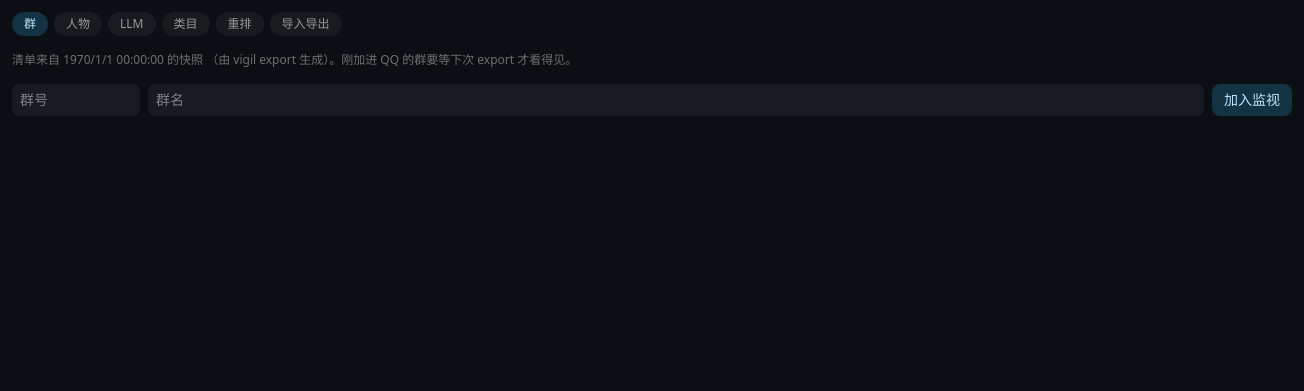
it: 删类目时未知条目数就必须要求选择迁移目标
This screenshot has width=1304, height=391.
Click the button "类目" at (186, 24), box [162,12,210,36]
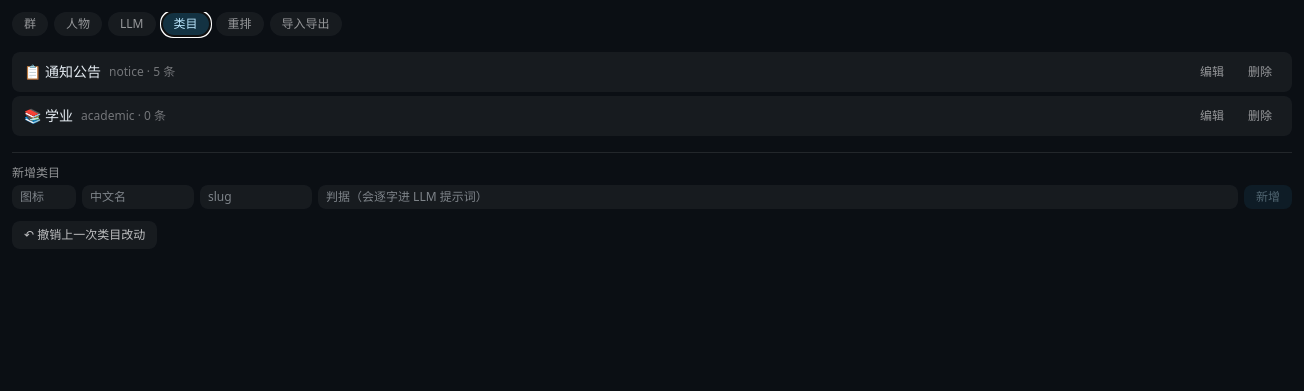
Now the text "📋 通知公告" is shown, box [24,62,101,82]
Click the button "删除" in the row of "通知公告" at (1260, 72), box [1240,60,1280,84]
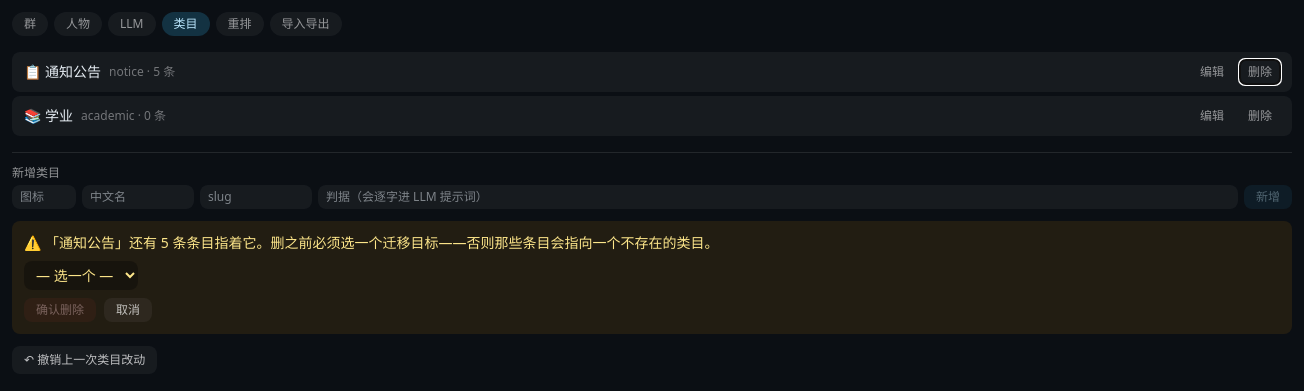
Now the text "⚠️ 「通知公告」还有 5 条条目指着它。删之前必须选一个迁移目标——否则那些条目会指向一个不存在的类目。" is shown, box [24,233,718,252]
Now the button "确认删除" is disabled, box [24,298,96,322]
Select "📚 学业" in the dropdown at (81, 276), box [24,261,138,290]
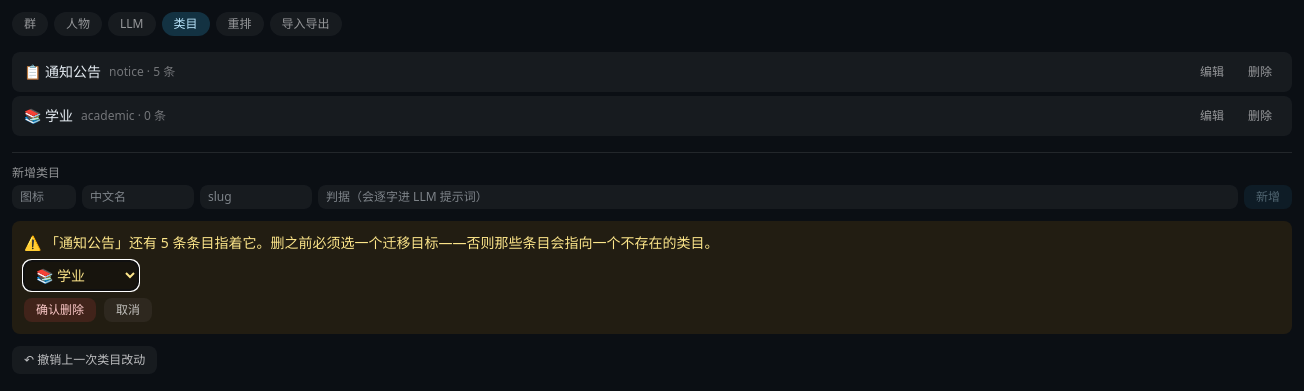
Now the button "确认删除" is enabled, box [24,298,96,322]
